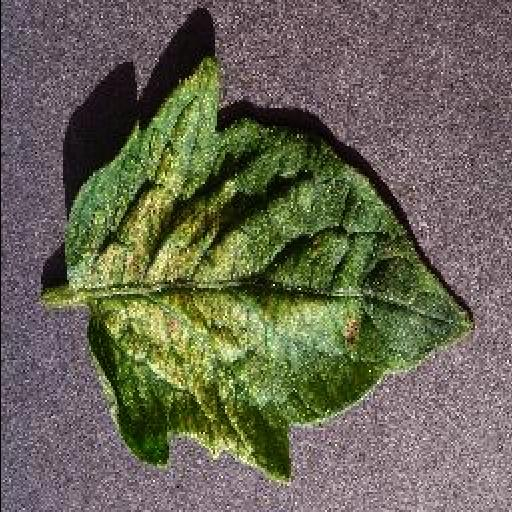disease_tomato: (66, 62, 478, 479)
